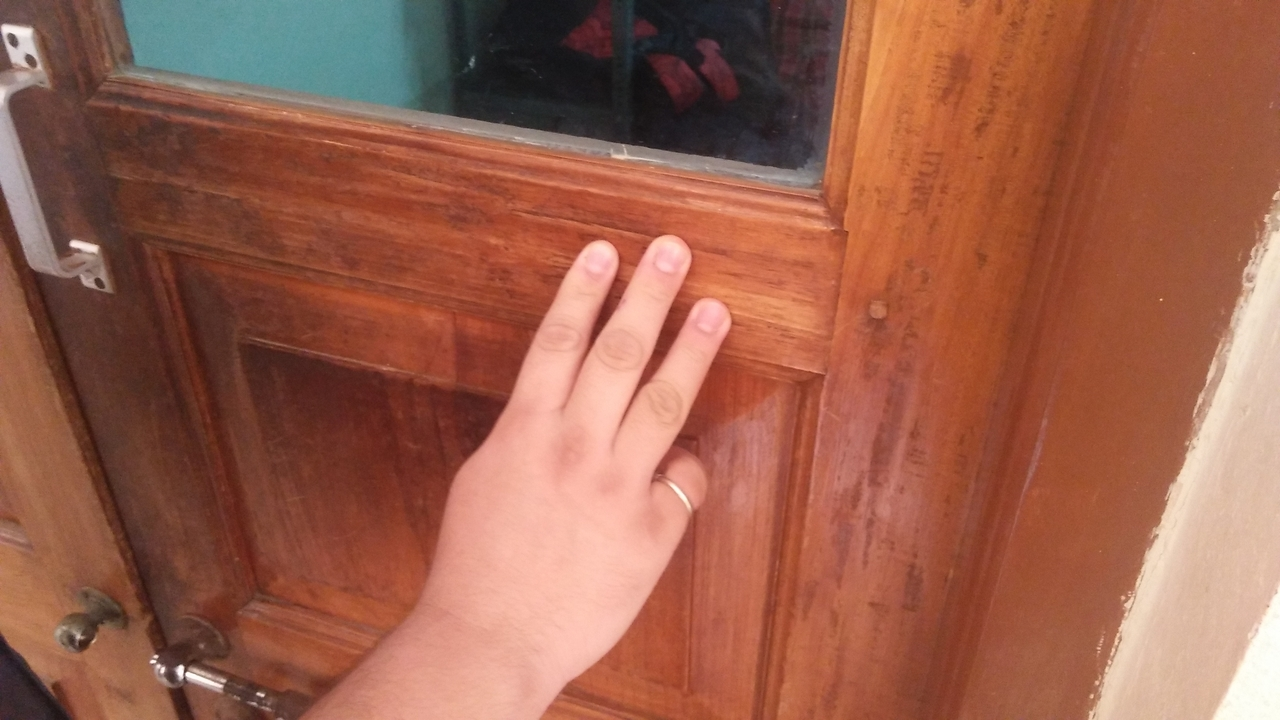fingertip: (632, 224, 700, 288), (560, 230, 628, 292), (680, 286, 742, 342)
